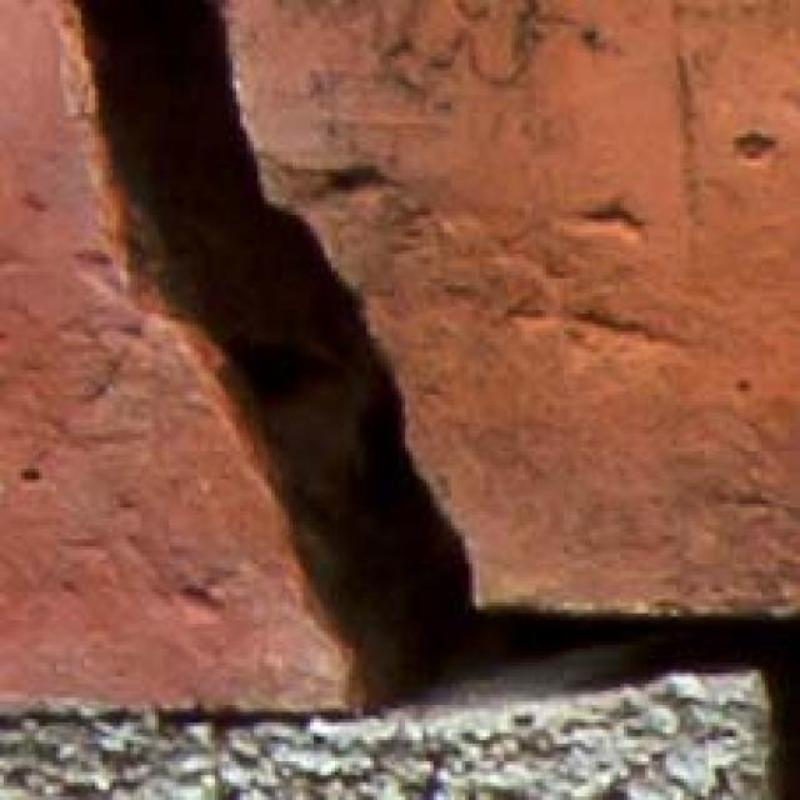pothole: (77, 0, 800, 800)
